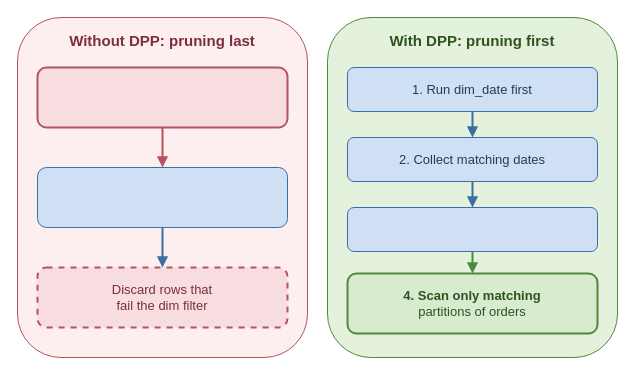
Some shapes in this 635 by 375 pixel diagram are drawn without their labels. The shapes that lost their labels are listed below. From the top down, each one's centre as x and y in pixels, then its label:
pixel 162 97: Scan all of orders every partition
pixel 162 197: Join to dim_date
pixel 472 229: 3. Inject as a scan filter
